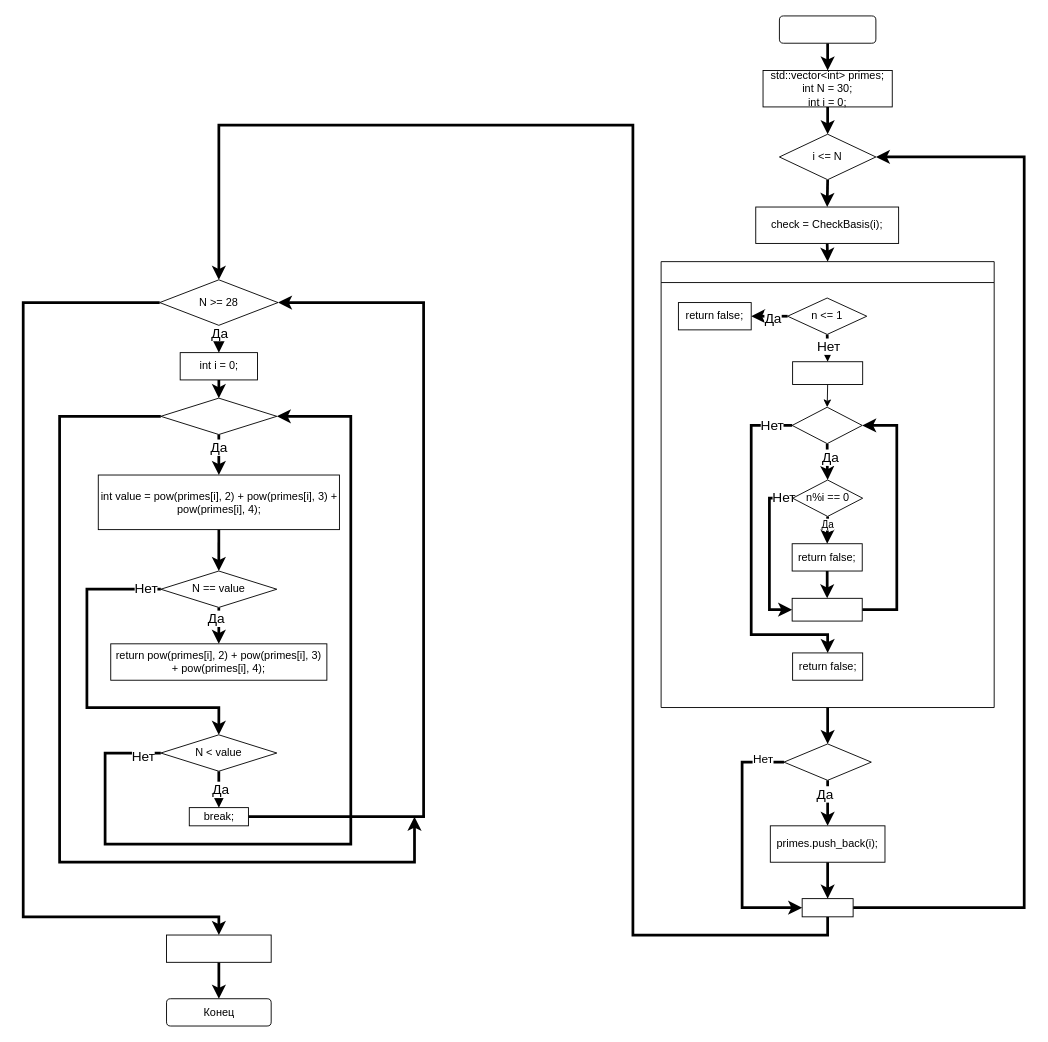
Some shapes in this 1048 by 1042 pixel diagram are drawn without their labels. Each missing label, with the box of its shape:
++i;: (801, 898, 853, 917)
check: (783, 743, 871, 780)
CheckBasis(int n), возвращает bool: (660, 261, 994, 708)
i < primes.size(): (160, 397, 277, 435)
i++;: (791, 597, 862, 621)
i<=sqrt(n): (791, 406, 862, 444)
int i = 2;: (792, 361, 863, 384)
return -1;: (166, 934, 271, 962)
Начало: (779, 15, 876, 43)
